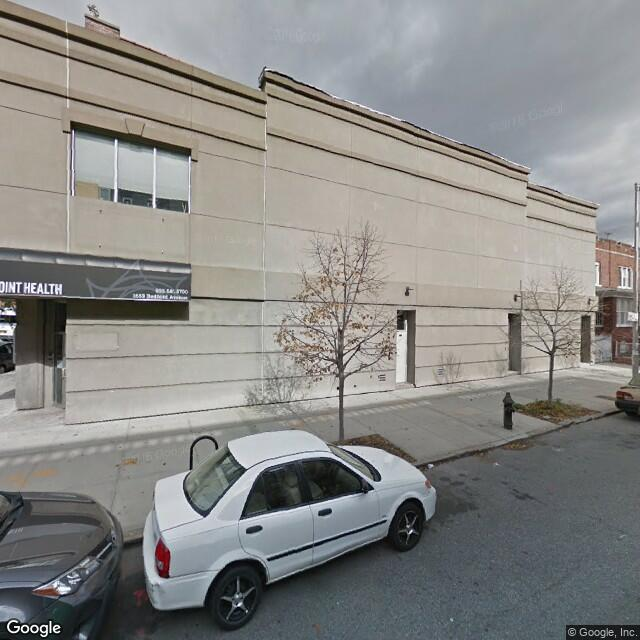litter: (133, 590, 149, 606), (426, 460, 434, 469), (490, 460, 499, 467)
